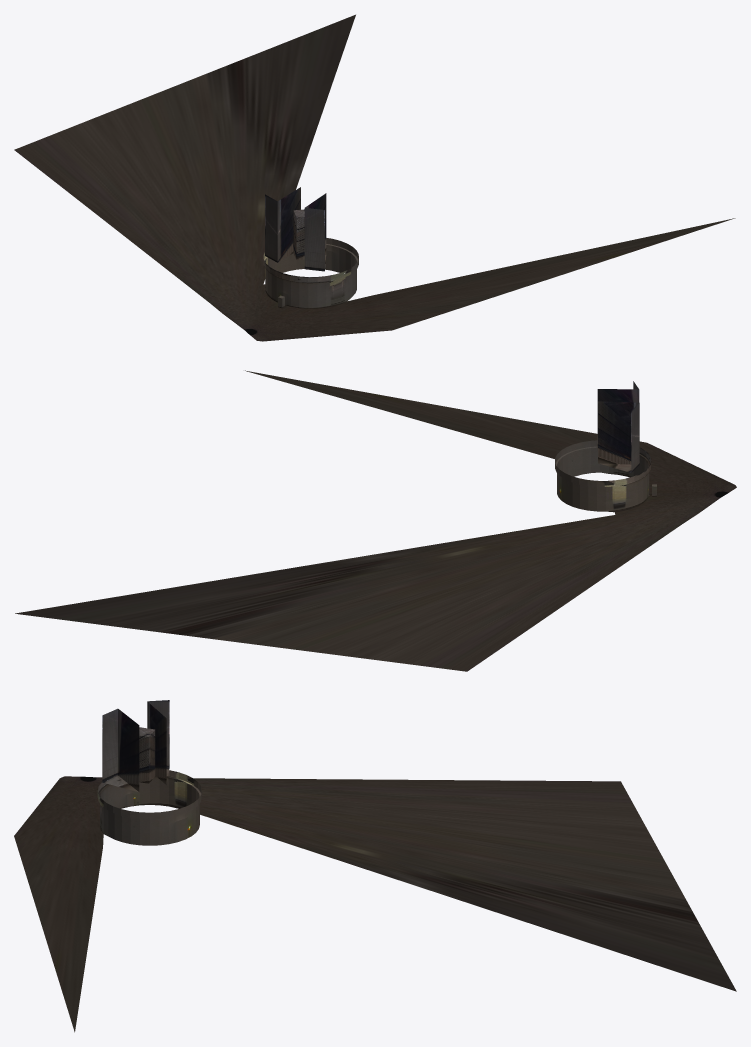
Rendered from observatorio.gltf.
The picture shows the model from 3 angles, top to bottom: view 1: azimuth 30°, elevation 25°; view 2: azimuth 150°, elevation 25°; view 3: azimuth 270°, elevation 25°; orthographic projection. The views are drawn at different scales.
Parts seen in each view (by area): view 1: Plane; view 2: Plane; view 3: Plane.
Boxes of the visible parts, <box> form: Plane: <box>14,14,735,341</box>; Plane: <box>15,370,736,671</box>; Plane: <box>14,700,736,1032</box>.
Size of the model in its own units: 196 by 37.93 by 232.
1 material, 1 textured.
